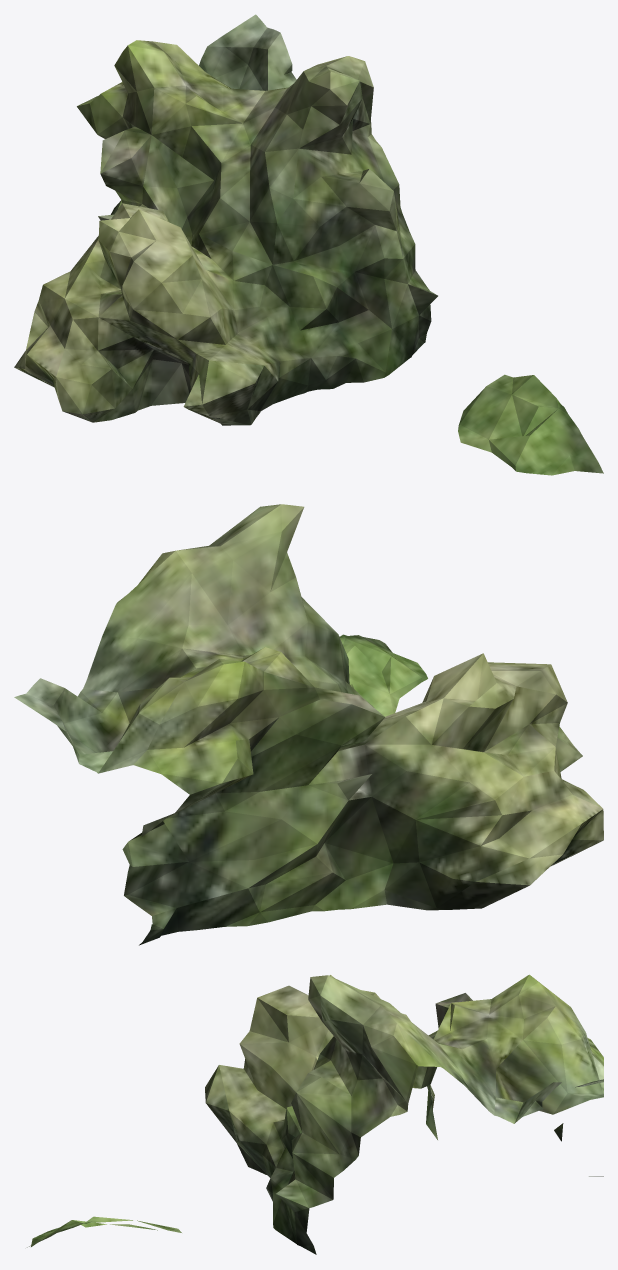
3 views of the same model, one above another, from view 1: azimuth 30°, elevation 25°; view 2: azimuth 150°, elevation 25°; view 3: azimuth 270°, elevation 25° (orthographic). The views are drawn at different scales.
Bounding box in the file's own units: 11.76 × 8.5 × 18.63.
Materials: 1 (1 with a texture image).
